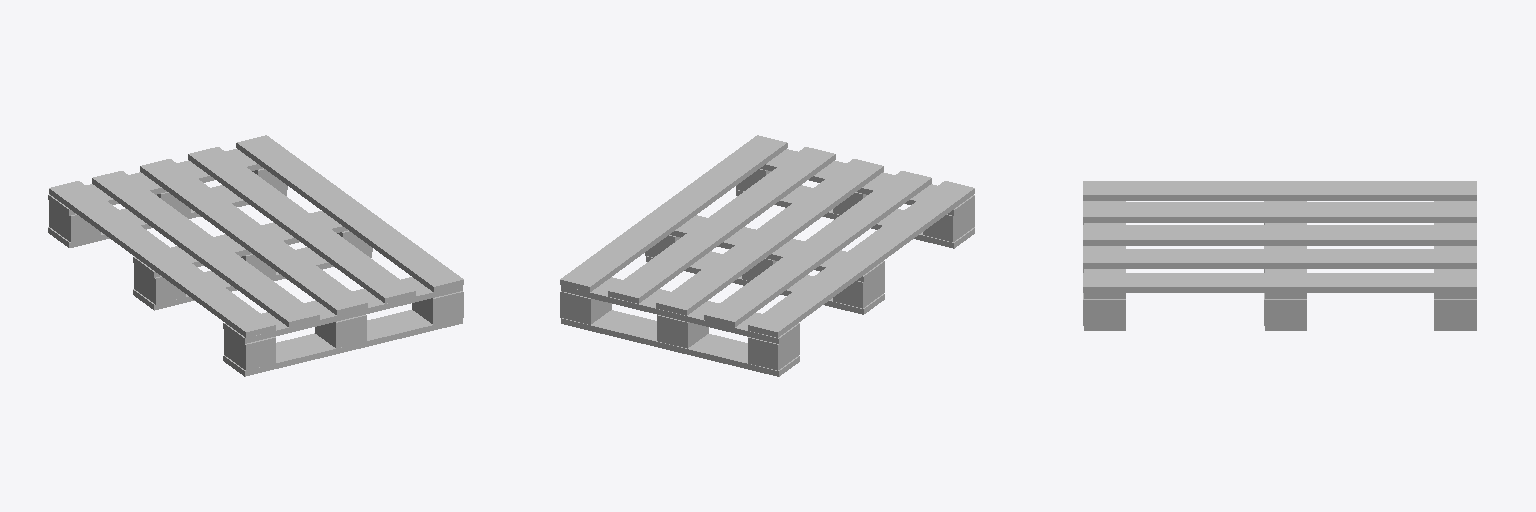
Rendered from pallets.obj.
3 renders of one model, left to right at view 1: azimuth 30°, elevation 25°; view 2: azimuth 150°, elevation 25°; view 3: azimuth 270°, elevation 25°, orthographic.
Parts seen in each view (by area): view 1: pallets.obj; view 2: pallets.obj; view 3: pallets.obj.
Boxes of the visible parts, x1,y1,x2,y2 form: pallets.obj: [48, 135, 463, 376]; pallets.obj: [560, 135, 974, 376]; pallets.obj: [1083, 181, 1476, 330].
Size of the model in its own units: 3.7 by 0.7212 by 5.77.